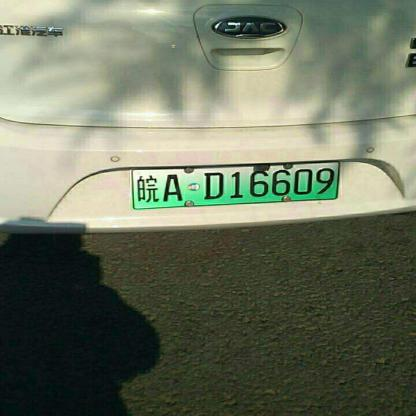lp: (133, 161, 337, 206)
